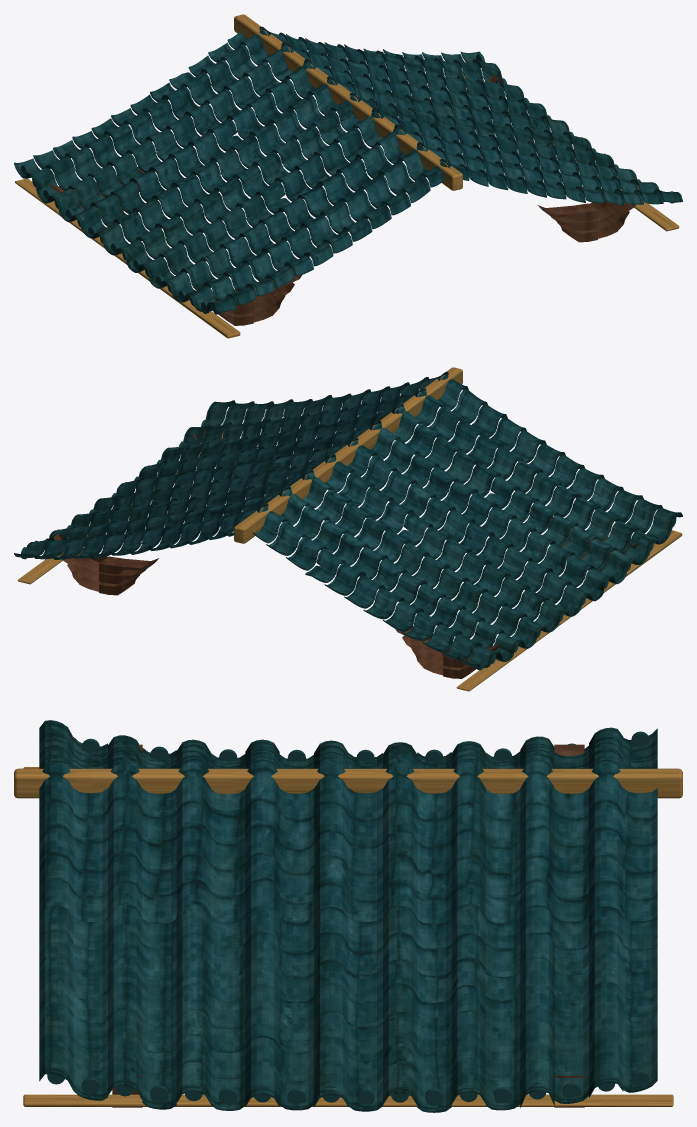
Rendered from R71-03-SOURCE-DERIVED-C-CC0-PBR-ROOF-OPTIMIZED.glb.
3 renders of one model, top to bottom at view 1: azimuth 30°, elevation 25°; view 2: azimuth 150°, elevation 25°; view 3: azimuth 270°, elevation 25°, orthographic. The views are drawn at different scales.
Visible parts, largest first — view 1: R71_03_C_LOW_DRAW_CALLS_R70_C_GEOMETRY_AND_PBR_AGED_tile_PHY, R71_03_C_LOW_DRAW_CALLS_R70_C_GEOMETRY_AND_PBR_AGED_gold_PHY, R71_03_C_LOW_DRAW_CALLS_R70_C_GEOMETRY_AND_PBR_AGED_wood_PHY; view 2: R71_03_C_LOW_DRAW_CALLS_R70_C_GEOMETRY_AND_PBR_AGED_tile_PHY, R71_03_C_LOW_DRAW_CALLS_R70_C_GEOMETRY_AND_PBR_AGED_gold_PHY, R71_03_C_LOW_DRAW_CALLS_R70_C_GEOMETRY_AND_PBR_AGED_wood_PHY; view 3: R71_03_C_LOW_DRAW_CALLS_R70_C_GEOMETRY_AND_PBR_AGED_tile_PHY, R71_03_C_LOW_DRAW_CALLS_R70_C_GEOMETRY_AND_PBR_AGED_gold_PHY, R71_03_C_LOW_DRAW_CALLS_R70_C_GEOMETRY_AND_PBR_AGED_wood_PHY.
Part boxes in pixels (x1,y1,x2,y2): R71_03_C_LOW_DRAW_CALLS_R70_C_GEOMETRY_AND_PBR_AGED_tile_PHY: (14,26,682,314); R71_03_C_LOW_DRAW_CALLS_R70_C_GEOMETRY_AND_PBR_AGED_gold_PHY: (15,14,679,338); R71_03_C_LOW_DRAW_CALLS_R70_C_GEOMETRY_AND_PBR_AGED_wood_PHY: (48,75,640,325); R71_03_C_LOW_DRAW_CALLS_R70_C_GEOMETRY_AND_PBR_AGED_tile_PHY: (14,371,682,670); R71_03_C_LOW_DRAW_CALLS_R70_C_GEOMETRY_AND_PBR_AGED_gold_PHY: (17,367,682,691); R71_03_C_LOW_DRAW_CALLS_R70_C_GEOMETRY_AND_PBR_AGED_wood_PHY: (53,430,639,678); R71_03_C_LOW_DRAW_CALLS_R70_C_GEOMETRY_AND_PBR_AGED_tile_PHY: (39,720,657,1112); R71_03_C_LOW_DRAW_CALLS_R70_C_GEOMETRY_AND_PBR_AGED_gold_PHY: (14,767,682,1106); R71_03_C_LOW_DRAW_CALLS_R70_C_GEOMETRY_AND_PBR_AGED_wood_PHY: (112,744,584,1107).
Size of the model in its own units: 13 by 3.65 by 10.6.
3 materials, 3 textured.
